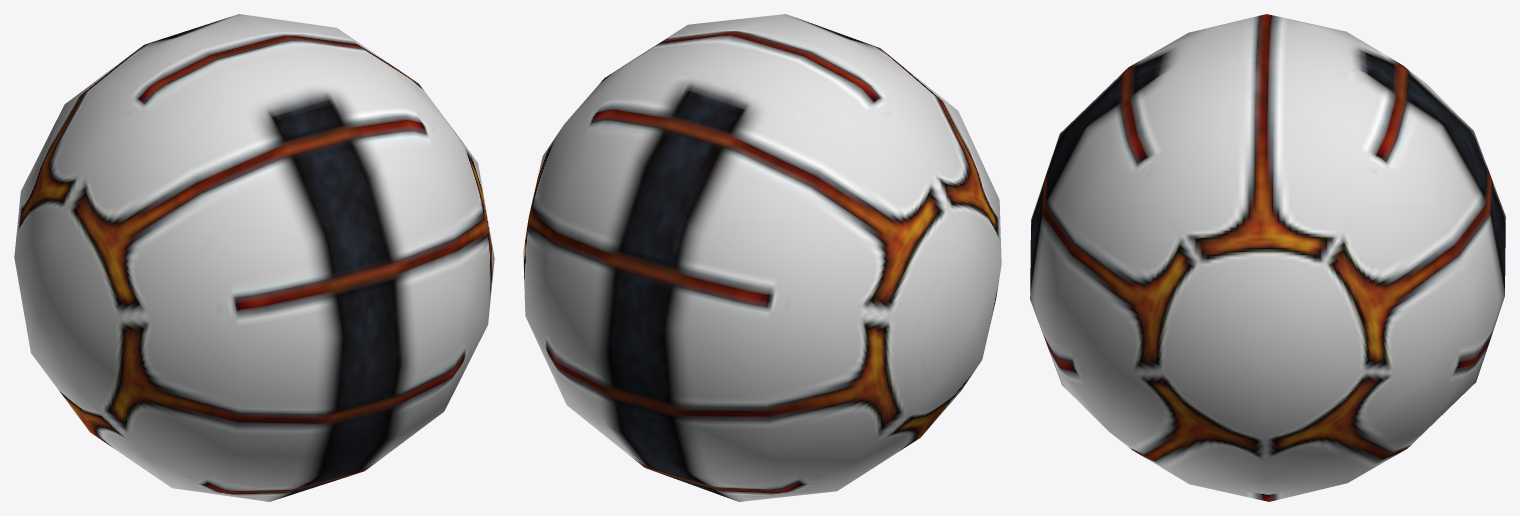
File: st_ball_030.fbx
The picture shows the model from 3 angles, left to right: view 1: azimuth 30°, elevation 25°; view 2: azimuth 150°, elevation 25°; view 3: azimuth 270°, elevation 25°; orthographic projection.
Visible parts, largest first — view 1: st_Ball_000; view 2: st_Ball_000; view 3: st_Ball_000.
Part boxes in pixels (x1=…): st_Ball_000: x1=14, y1=14, x2=494, y2=501; st_Ball_000: x1=523, y1=14, x2=1001, y2=501; st_Ball_000: x1=1030, y1=14, x2=1505, y2=501.
Bounding box in the file's own units: 22.16 × 21.34 × 21.58.
